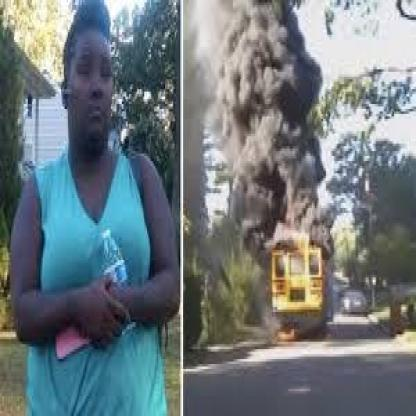smoke: (207, 10, 342, 289)
